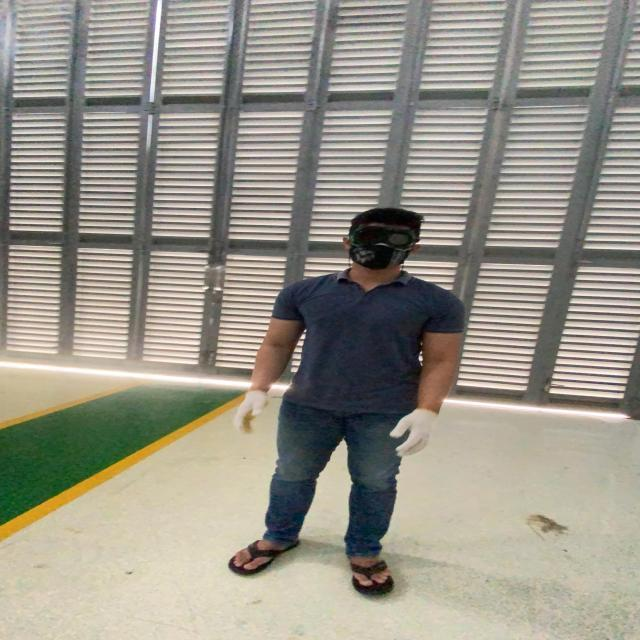glasses: (340, 222, 423, 250)
